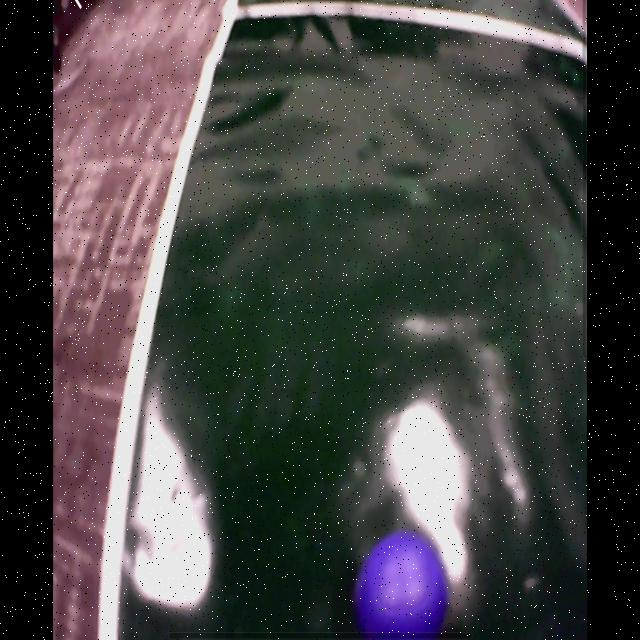ball: (357, 531, 449, 639)
